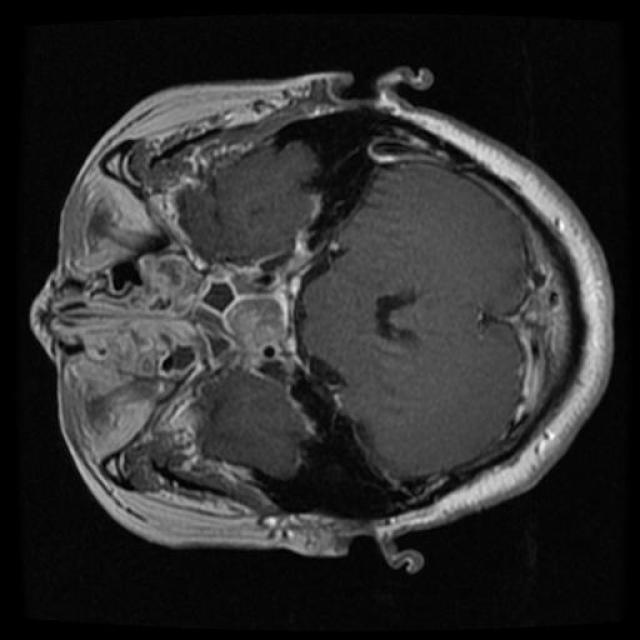Pituitary: (221, 267, 306, 384)
